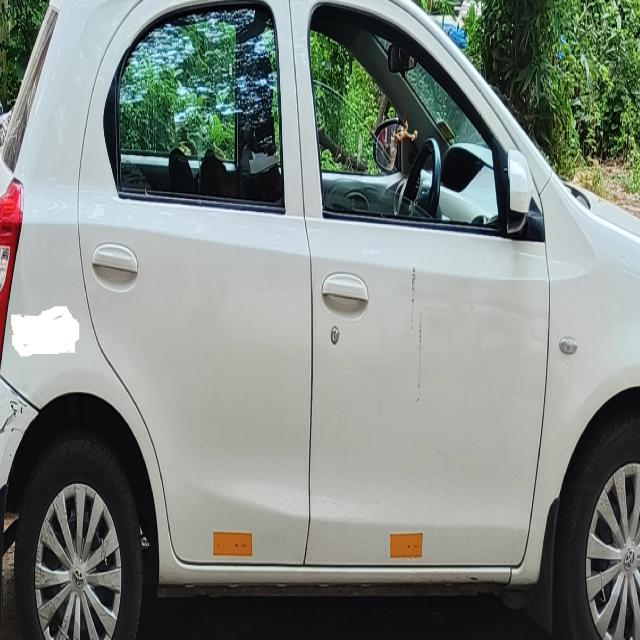scratch: (14, 294, 84, 353)
